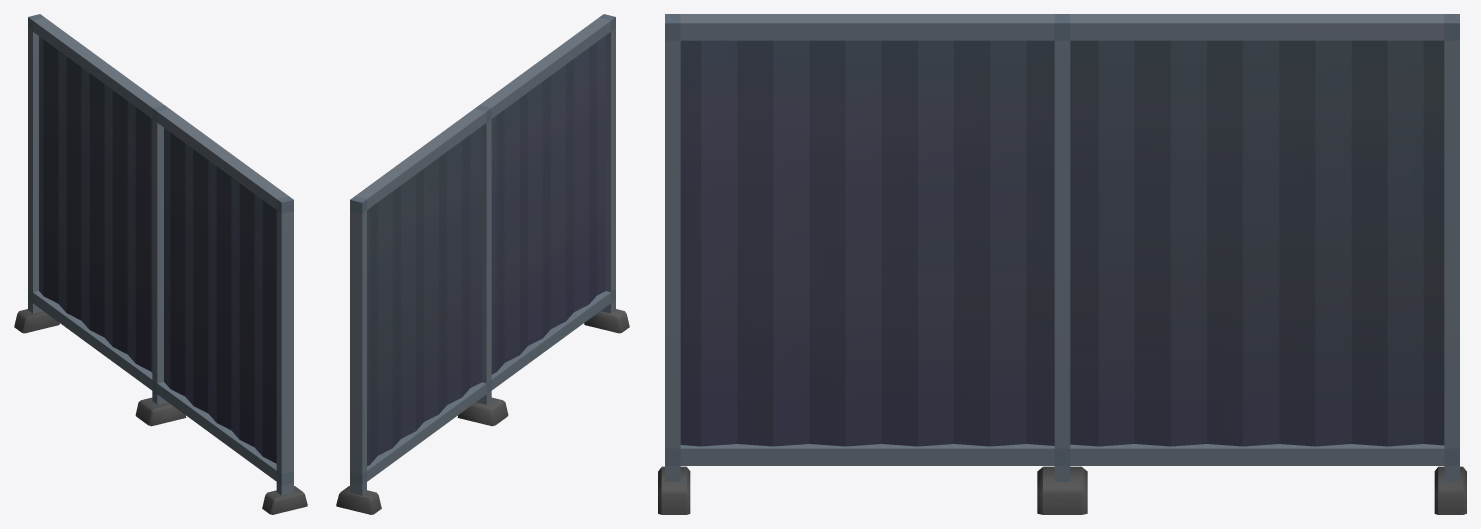
File: Barier_1_4.fbx
3 renders of one model, left to right at view 1: azimuth 30°, elevation 25°; view 2: azimuth 150°, elevation 25°; view 3: azimuth 270°, elevation 25°, orthographic. The views are drawn at different scales.
Visible parts, largest first — view 1: Barier_1_4; view 2: Barier_1_4; view 3: Barier_1_4.
Boxes of the visible parts, <box> form: Barier_1_4: <box>14,14,307,514</box>; Barier_1_4: <box>336,14,629,514</box>; Barier_1_4: <box>658,14,1466,514</box>.
Bounding box in the file's own units: 34.35 × 268 × 407.
